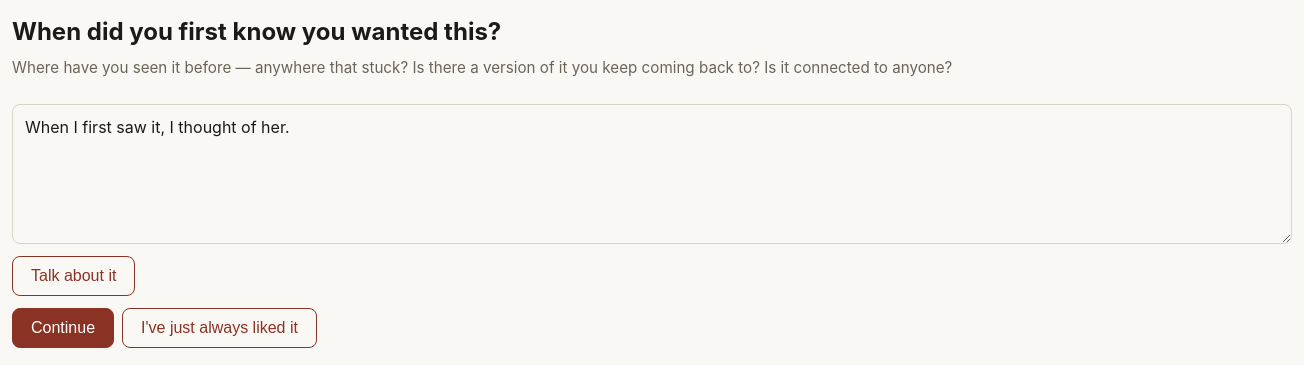
Test: ImageProvenance -- re-entry theme confirmation Continue disabled with no stated reason (live-test regression pattern) › shows a stated reason when every theme is deselected, instead of a silent dead end
This screenshot has width=1304, height=365.
Earlier steps of the test are not shown.
Click the button "Continue" at (63, 328), box x1=12 y1=308 x2=114 y2=348
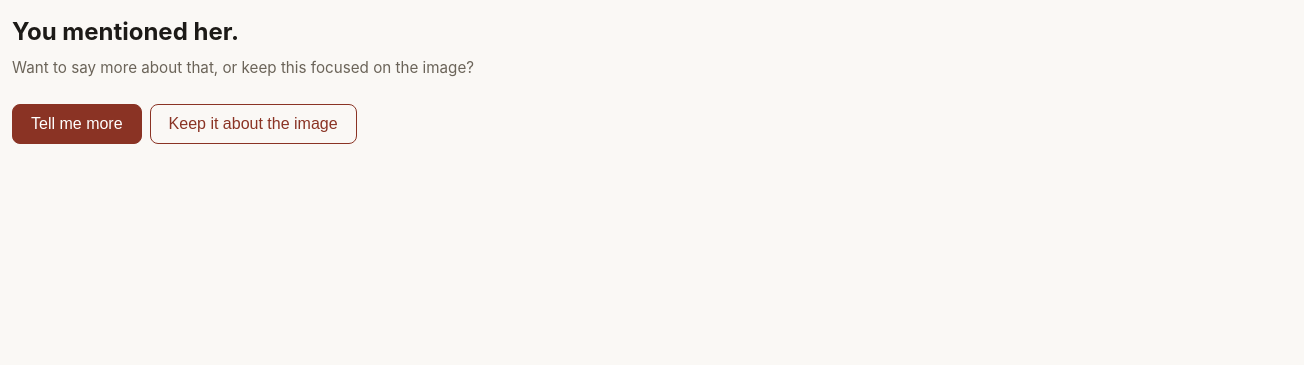
Expected: the heading "You mentioned her." is shown, x1=12 y1=17 x2=239 y2=46
Click the button "Tell me more" at (77, 124), box x1=12 y1=104 x2=142 y2=144
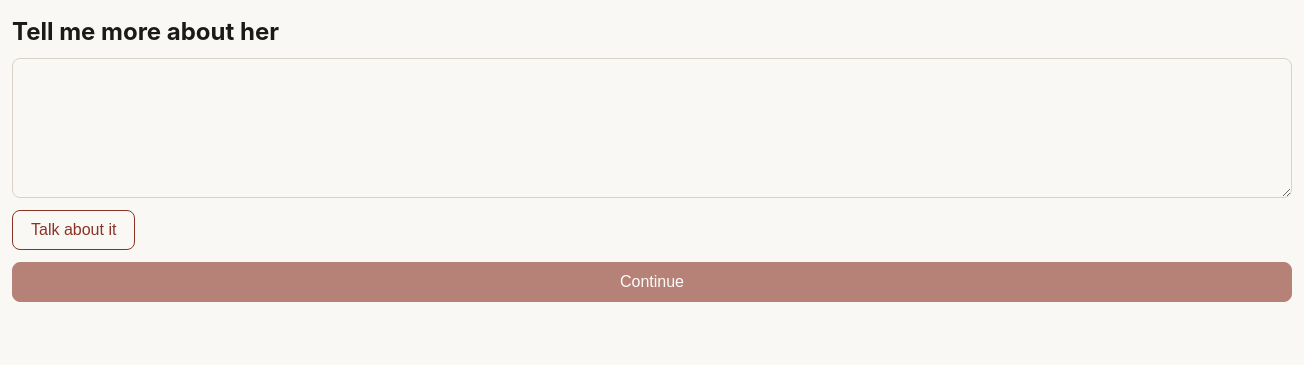
Type "She always loved this design." into the text box at (652, 128), box x1=12 y1=58 x2=1292 y2=198
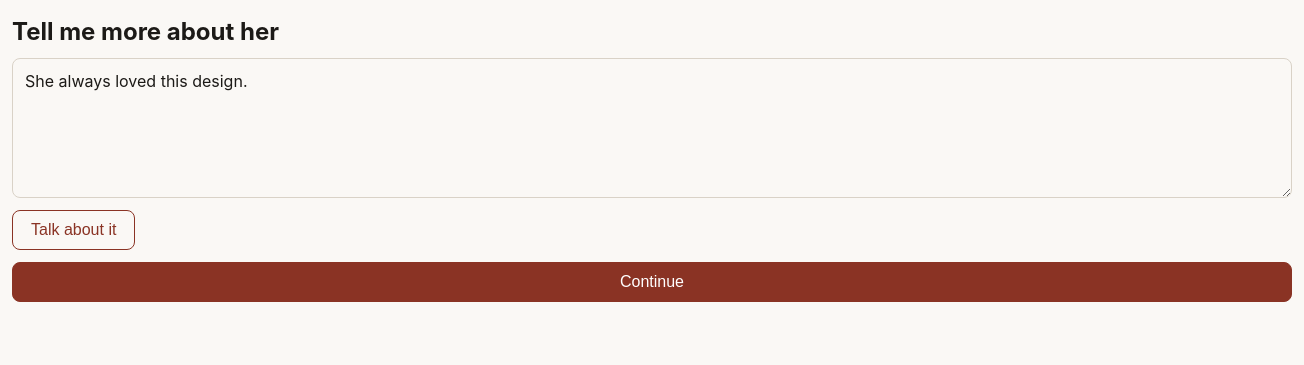
Click the button "Continue" at (652, 282), box x1=12 y1=262 x2=1292 y2=302
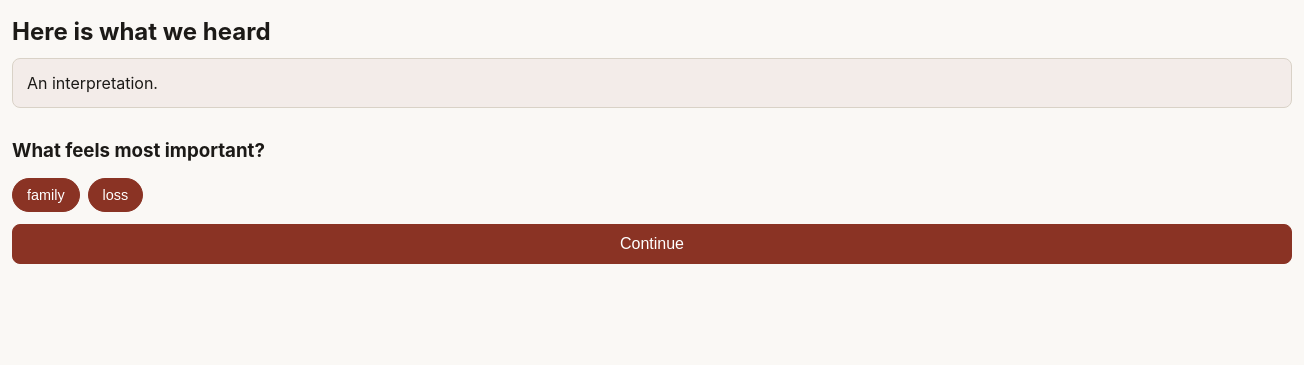
Expected: the heading "Here is what we heard" is shown, x1=12 y1=17 x2=271 y2=46
Click the button "family" at (46, 195), box x1=12 y1=178 x2=80 y2=212
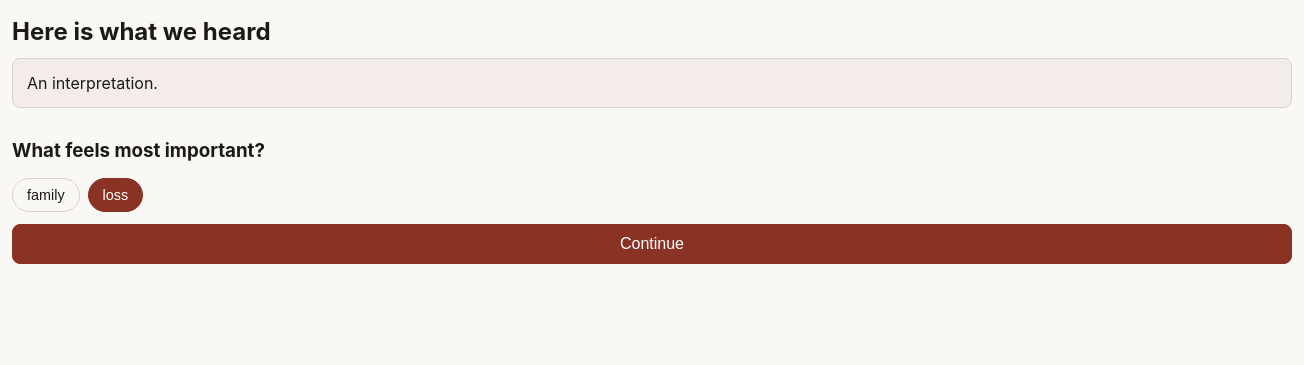
Click the button "loss" at (115, 195), box x1=88 y1=178 x2=143 y2=212
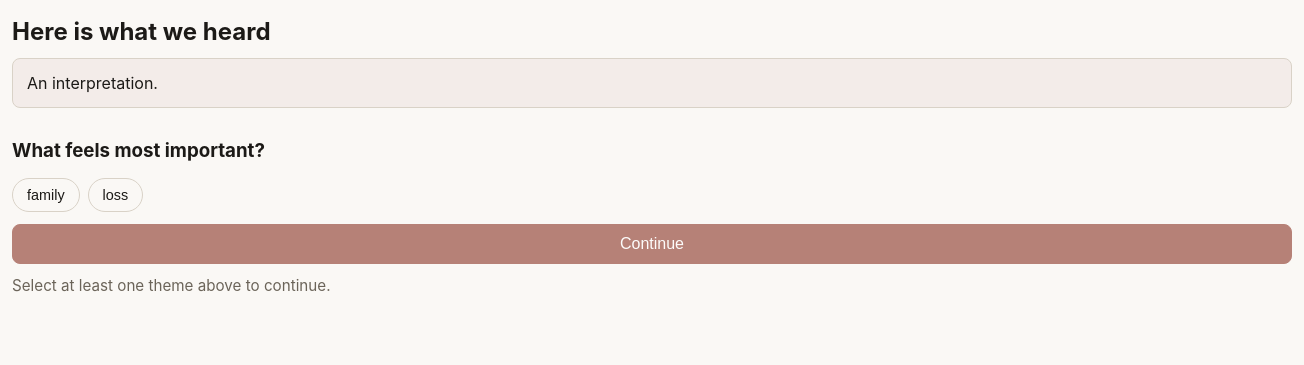
Expected: the button "Continue" is disabled, x1=12 y1=224 x2=1292 y2=264
Expected: the text "Select at least one theme above to continue." is shown, x1=12 y1=276 x2=330 y2=295
